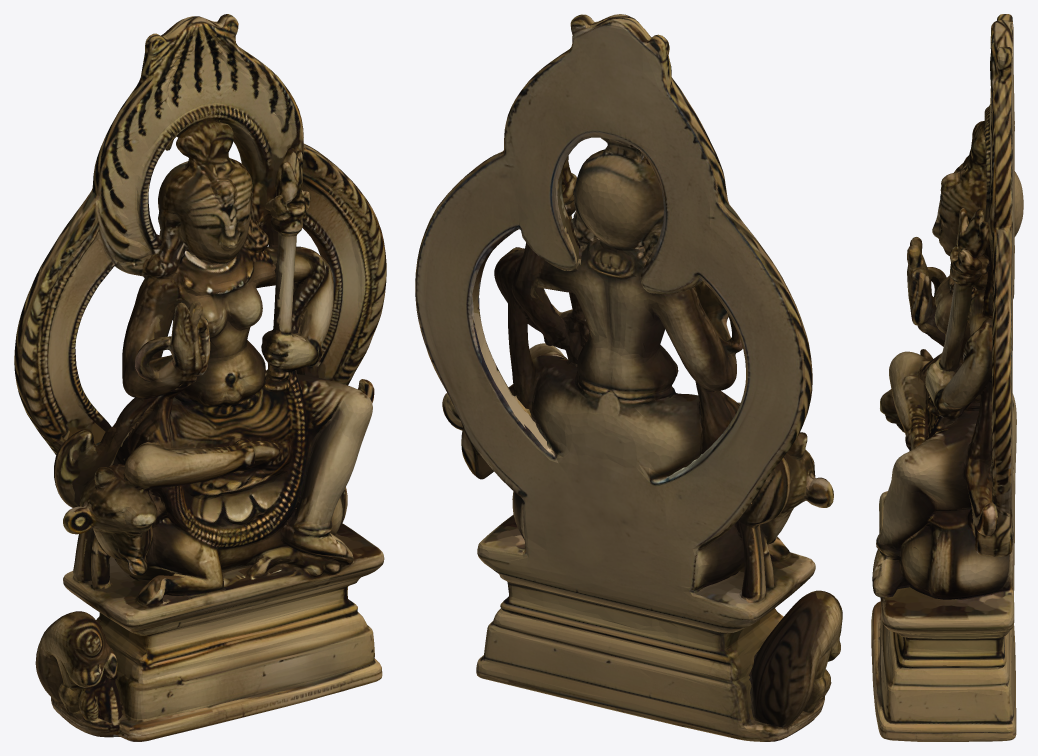
3 views of the same model, side by side, from view 1: azimuth 30°, elevation 25°; view 2: azimuth 150°, elevation 25°; view 3: azimuth 270°, elevation 25° (orthographic). The views are drawn at different scales.
Visible parts, largest first — view 1: textured_mesh; view 2: textured_mesh; view 3: textured_mesh.
Part boxes in pixels (left/top/right/bottom): textured_mesh: left=14, top=14, right=386, bottom=741; textured_mesh: left=415, top=14, right=842, bottom=741; textured_mesh: left=871, top=14, right=1023, bottom=741.
Size of the model in its own units: 1.18 by 1.99 by 0.4198.
1 material, 1 textured.
